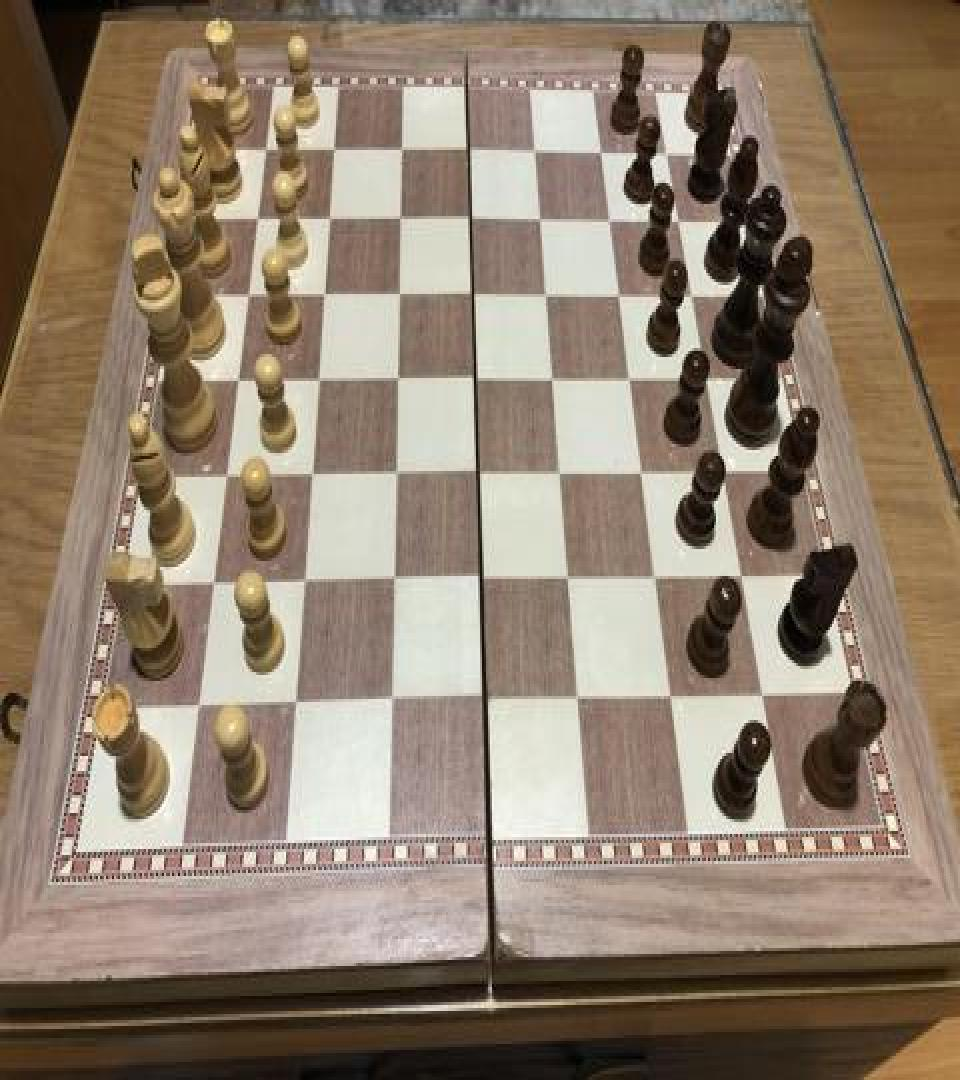xcorner: (630, 454, 656, 494), (468, 562, 494, 602), (749, 676, 775, 716), (471, 682, 497, 722), (656, 135, 682, 174), (457, 132, 483, 171), (389, 132, 415, 171), (321, 132, 347, 171), (252, 131, 278, 170), (668, 202, 694, 241), (599, 202, 625, 241), (529, 201, 555, 240), (459, 201, 485, 240), (387, 201, 413, 240), (316, 201, 342, 240), (695, 360, 721, 399), (304, 363, 330, 402), (224, 363, 250, 402), (711, 453, 737, 492), (548, 456, 574, 495), (465, 456, 491, 495), (212, 459, 238, 498), (729, 558, 755, 597), (643, 559, 669, 598), (556, 561, 582, 600), (379, 564, 405, 603), (289, 565, 315, 604), (198, 567, 224, 606), (658, 678, 684, 717), (565, 681, 591, 720), (376, 686, 402, 725), (280, 687, 306, 726), (183, 690, 209, 729), (590, 134, 616, 172), (524, 134, 550, 172), (244, 200, 270, 238), (681, 278, 707, 316), (608, 278, 634, 316), (535, 278, 561, 316), (460, 278, 486, 316), (386, 278, 412, 316), (310, 278, 336, 316), (234, 278, 260, 316), (618, 362, 644, 400), (541, 362, 567, 400), (463, 362, 489, 400), (384, 362, 410, 400), (381, 458, 407, 496), (297, 458, 323, 496)
